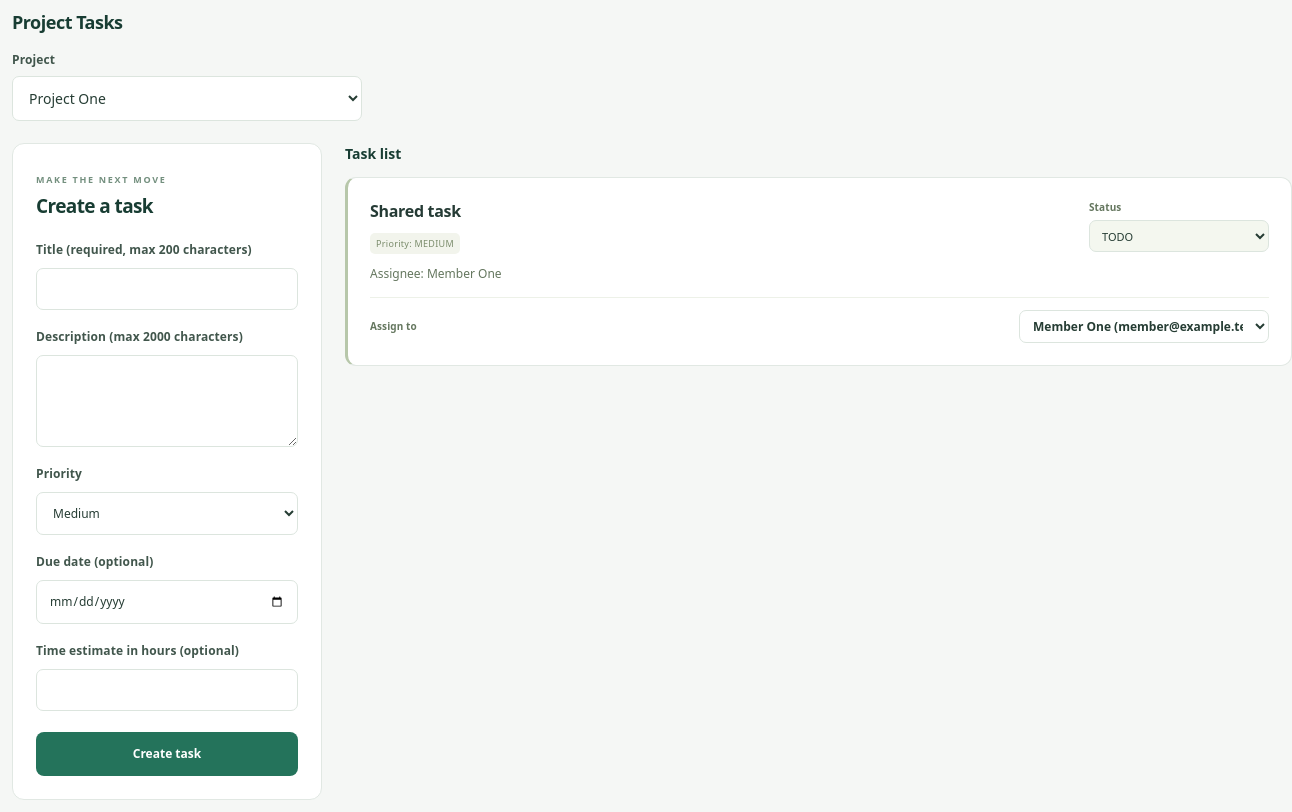
TaskWorkspace background synchronization › refreshes another user's status change without reload or losing form input
Type "Unfinished draft" into the field labelled "Title (required, max 200 characters)" at (167, 289), box left=36, top=268, right=298, bottom=310
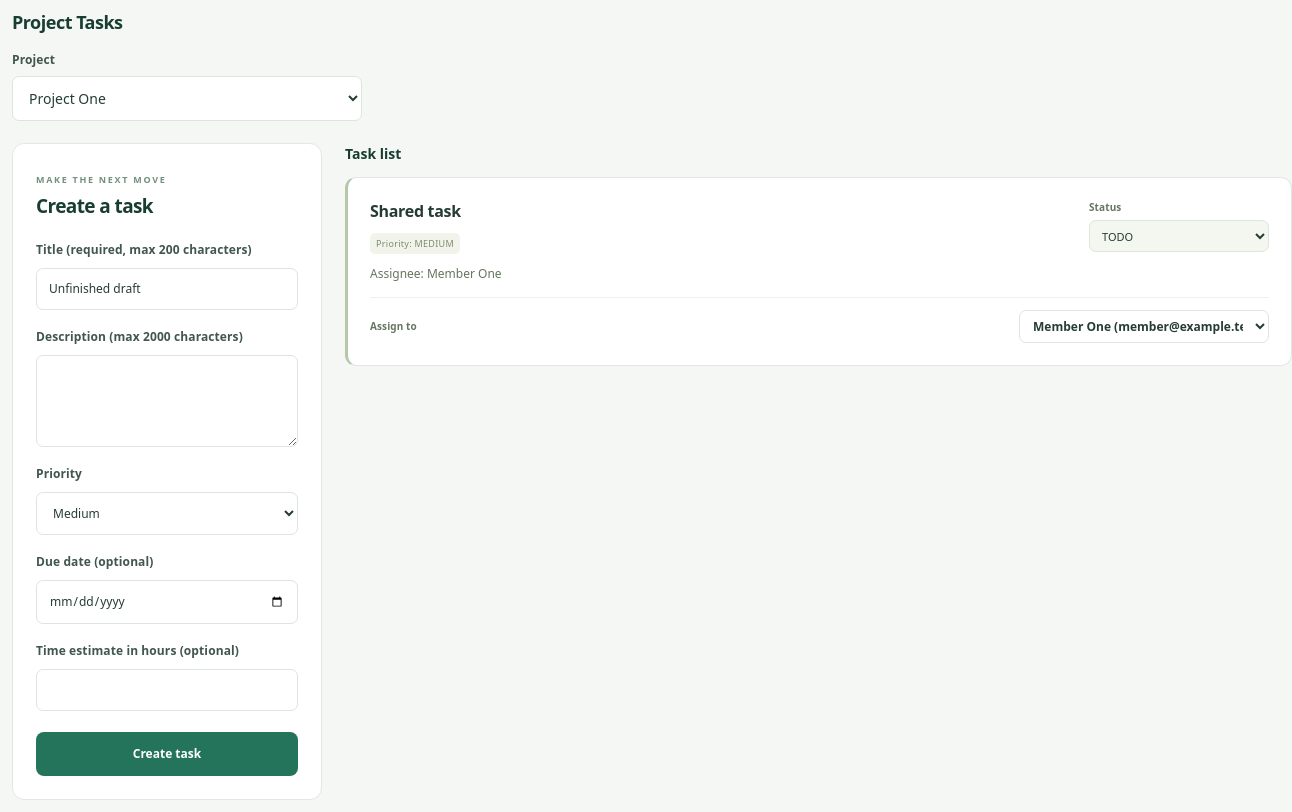
Type "Keep my description" into the text box labelled "Description (max 2000 characters)" at (167, 401), box left=36, top=355, right=298, bottom=447
Wait 5000 ms
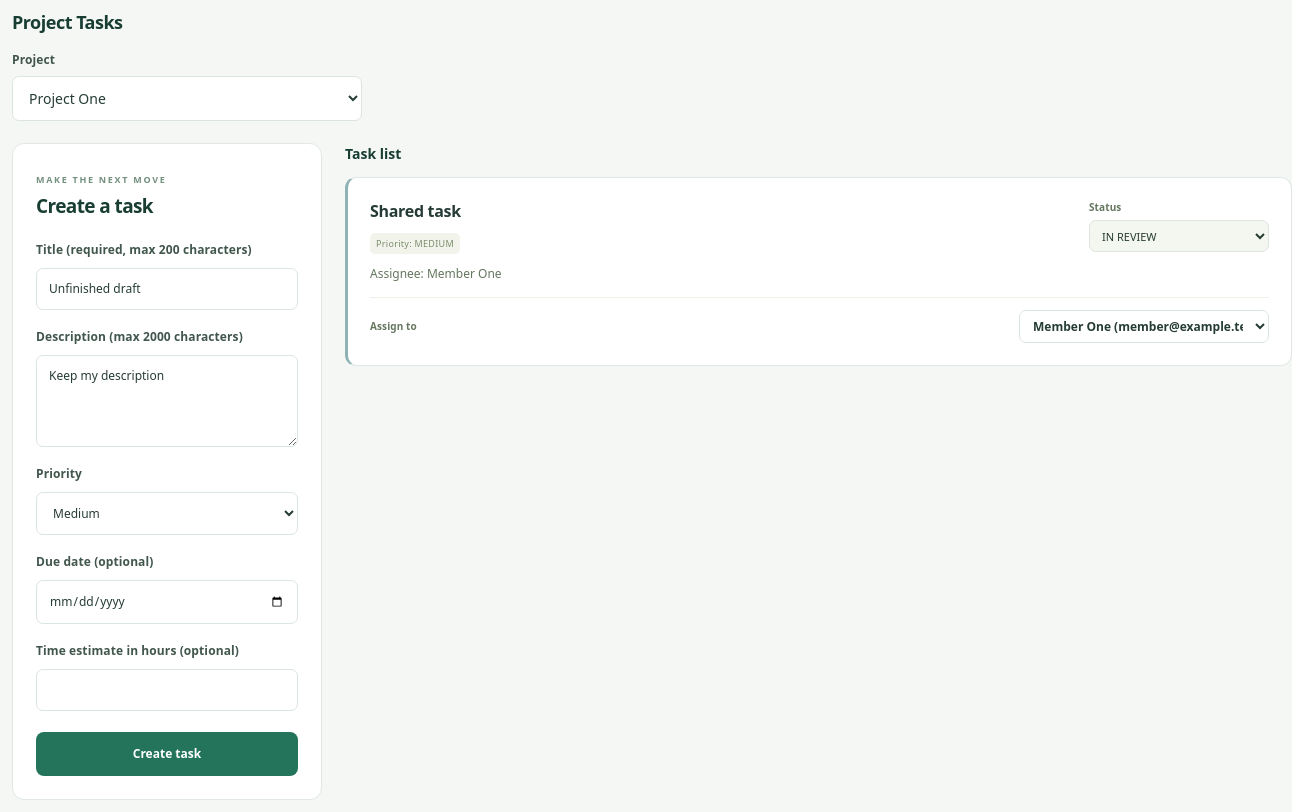
Expected: the dropdown named "Status for Shared task" shows "IN REVIEW", left=1089, top=220, right=1269, bottom=252
